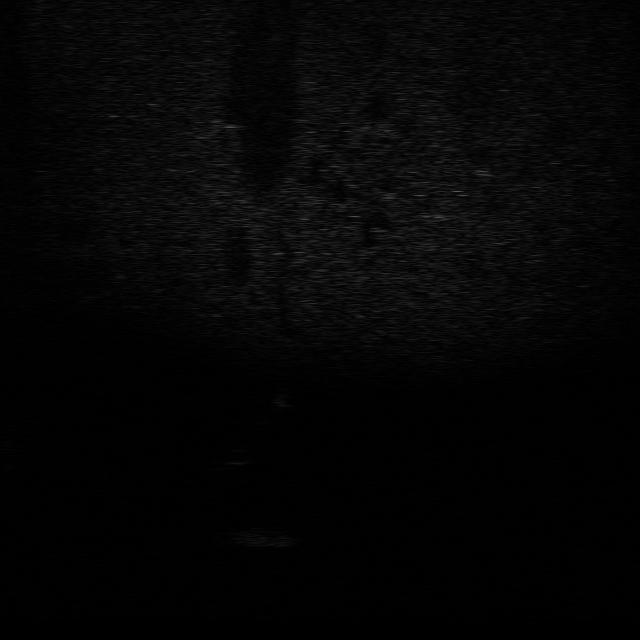ball: (252, 374, 298, 428)
circle cage: (216, 445, 258, 467)
human body: (259, 373, 301, 427)
